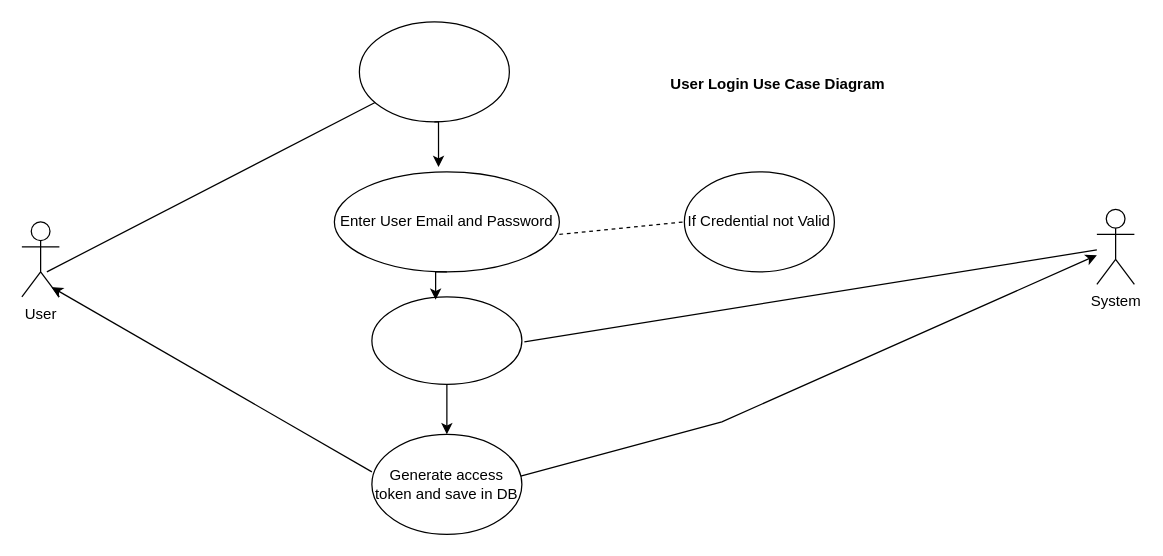
Image size: 1163x556. Some labels were removed from this diagram. The centre of each missing label's shape, as x and y in pixels:
"Check if user Credential is valid" belongs at (x=446, y=340).
"User Login" belongs at (x=433, y=71).
